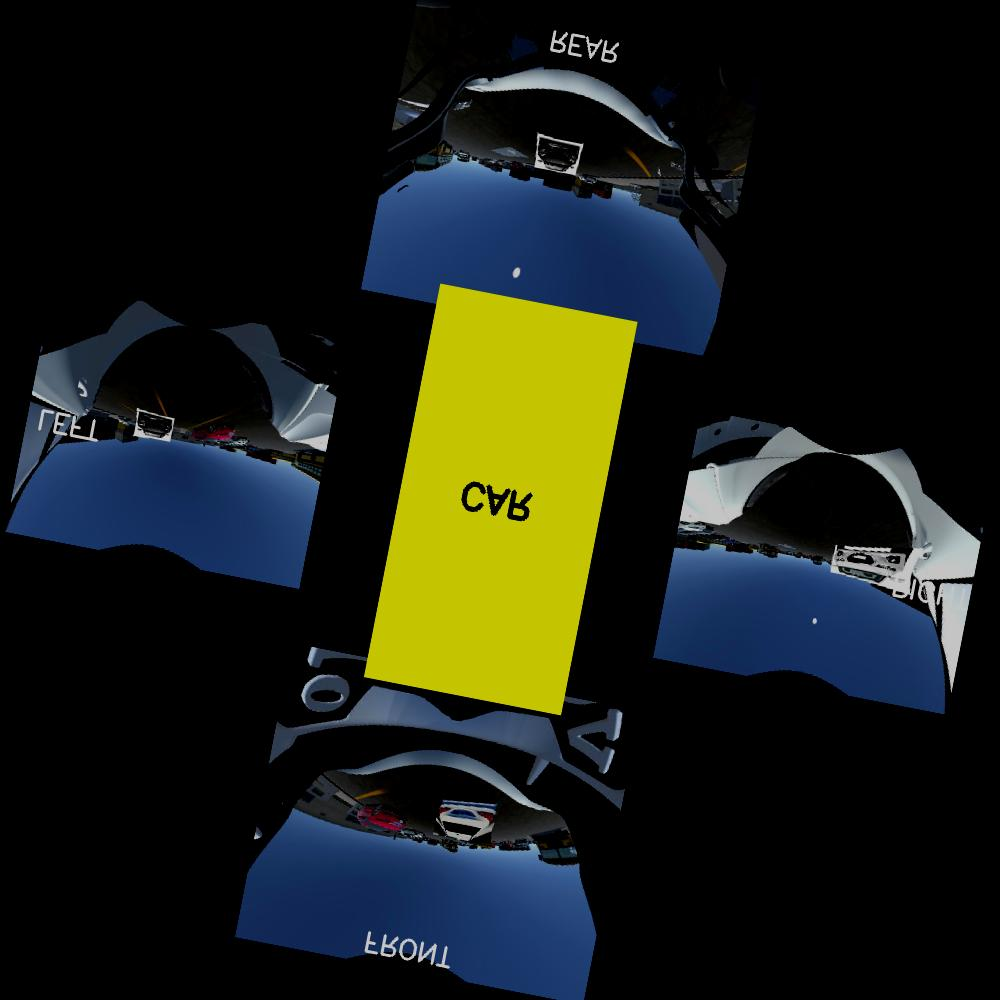Car: (828, 535, 917, 592), (433, 793, 500, 851), (533, 133, 583, 177), (131, 410, 175, 443)
